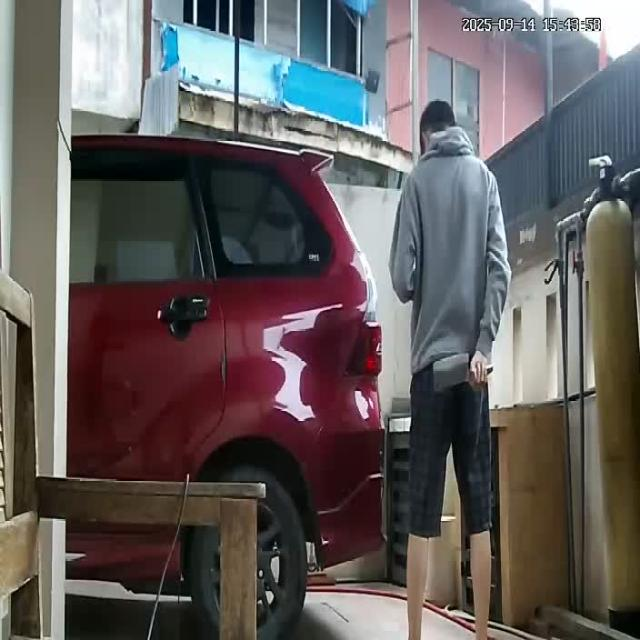senjata_tajam: (429, 347, 471, 398)
